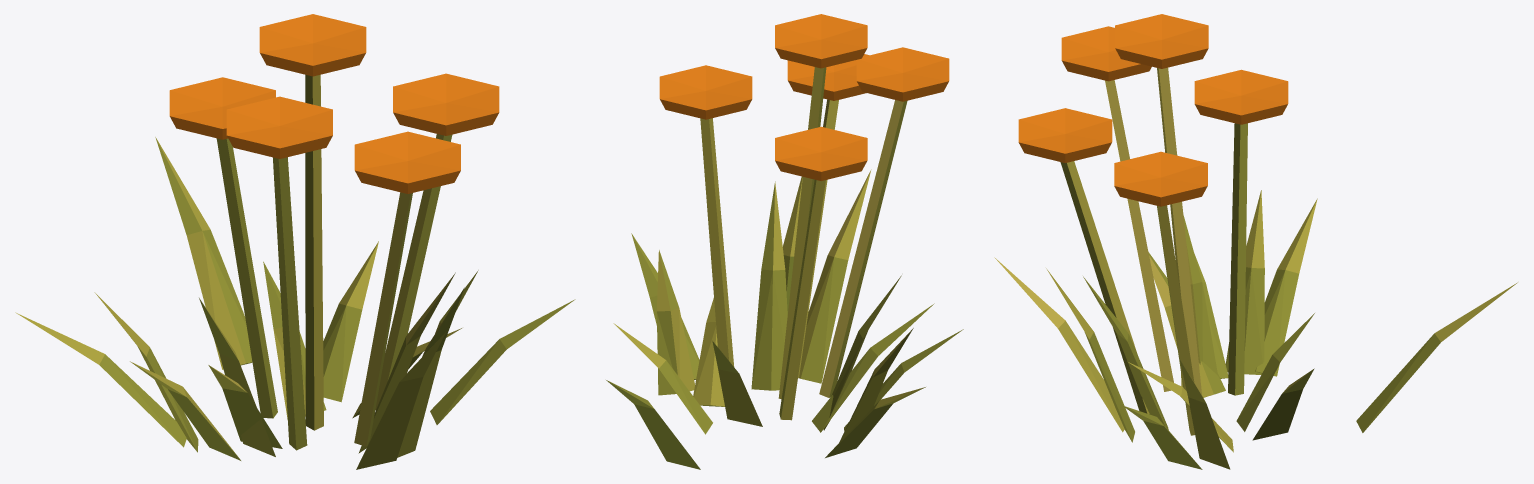
The model's file is SM_FLOWER_PLANT_01.fbx.
3 views of the same model, side by side, from view 1: azimuth 30°, elevation 25°; view 2: azimuth 150°, elevation 25°; view 3: azimuth 270°, elevation 25° (orthographic). The views are drawn at different scales.
Parts seen in each view (by area): view 1: FLOWER_PLANT_01; view 2: FLOWER_PLANT_01; view 3: FLOWER_PLANT_01.
Boxes of the visible parts, left/top/right/bottom form: FLOWER_PLANT_01: left=15, top=14, right=575, bottom=469; FLOWER_PLANT_01: left=606, top=14, right=963, bottom=469; FLOWER_PLANT_01: left=994, top=14, right=1517, bottom=469.
Bounding box in the file's own units: 0.6789 × 0.7784 × 0.603.
